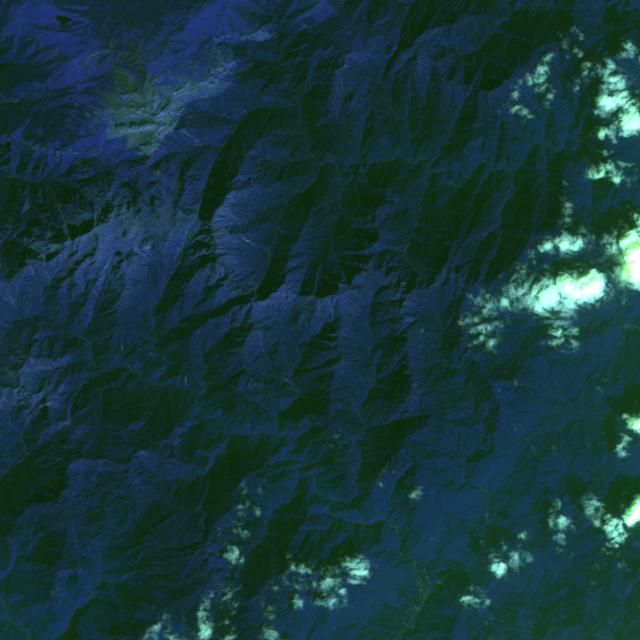landslides: (243, 237, 269, 251), (28, 265, 40, 283), (154, 263, 166, 280), (601, 79, 618, 90), (263, 202, 285, 210), (15, 283, 23, 304), (29, 294, 43, 303), (277, 224, 288, 234), (29, 357, 39, 367)
